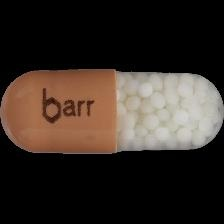54868-5479: (0, 0, 224, 224)
